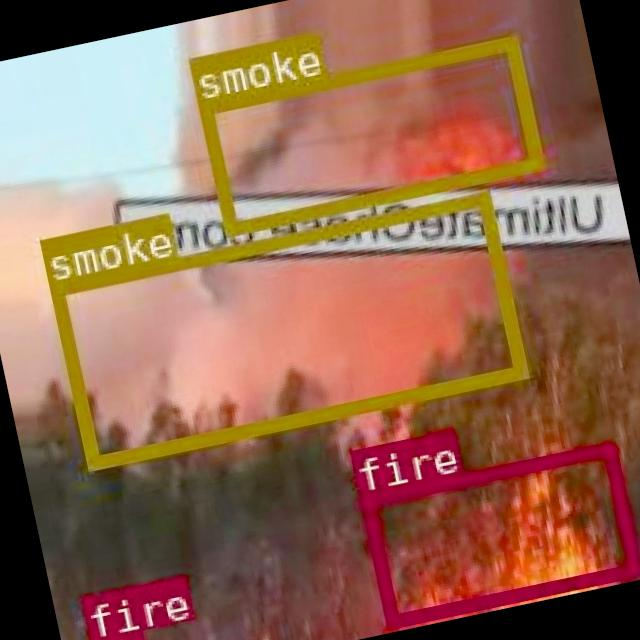fire: (355, 440, 638, 627), (88, 629, 148, 640)
smoke: (48, 190, 526, 468), (195, 35, 542, 234)
